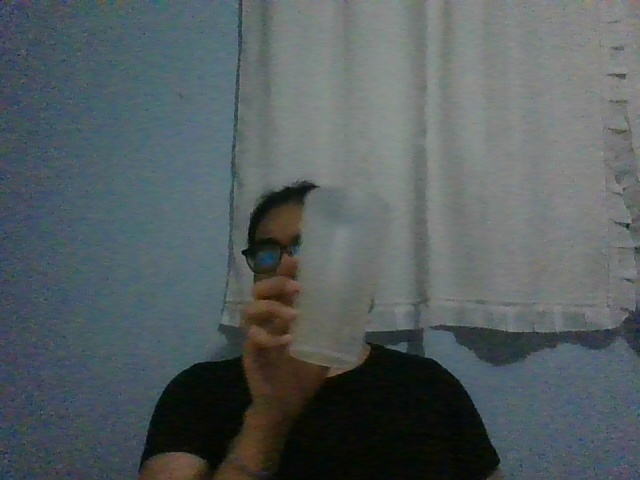vaso: (287, 186, 391, 368)
